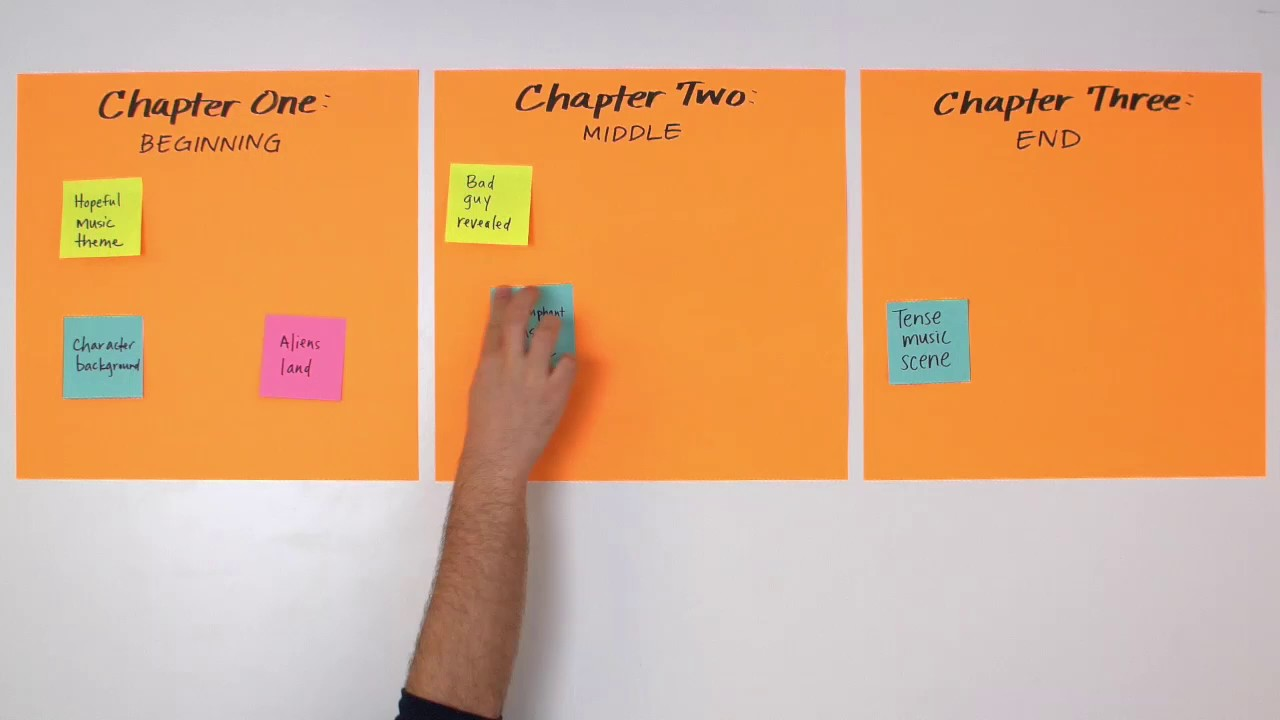stickynote: (260, 312, 347, 404), (443, 161, 533, 244), (61, 316, 144, 400), (59, 177, 143, 258), (886, 301, 971, 381)
